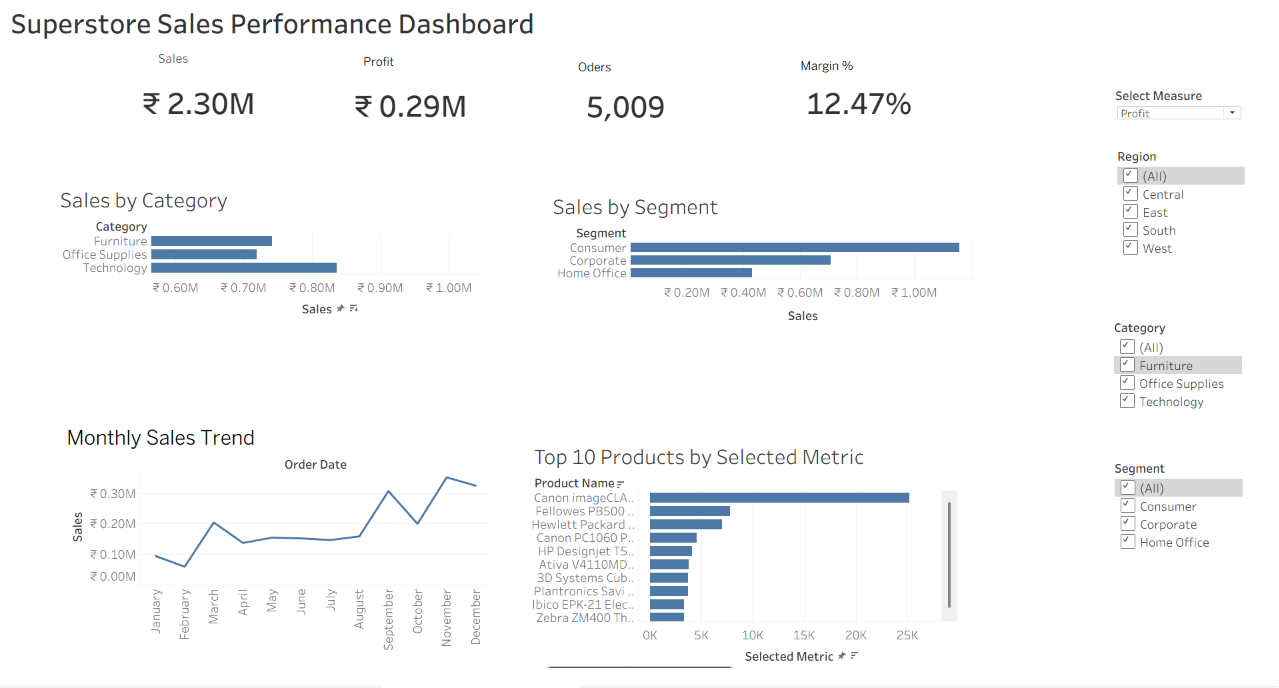

This screenshot's page, from the dashboard's own definition file:
{"tool":"tableau","page":{"name":"Superstore Sales Performance Dashboard","canvas":[1000,1000],"units":"permille","ordinal":2},"visuals":[{"type":"title","box":[5,9.9,990,78.2]},{"type":"worksheet","title":"KPI - Total Sales","mark":"Text","box":[69.2,73.2,132.2,120.4]},{"type":"worksheet","title":"KPI - Total Profit","mark":"Automatic","box":[224.4,80.7,142.8,116.6]},{"type":"worksheet","title":"KPI - Profit Margin %","mark":"Automatic","box":[577.9,85.6,135.9,100.5]},{"type":"worksheet","title":"KPI - Total Orders","mark":"Automatic","box":[407.1,88.1,114.7,104.2]},{"type":"parameter","param":"[Parameters].[Parameter 1]","box":[871.6,131.5,99.8,64.5]},{"type":"filter","title":"Sale vs Category","param":"[federated.0kgxwaf1hvqhs717r3kzm0ylo0of].[none:Region:nk]","box":[872.8,219.6,99.8,207.2]},{"type":"worksheet","title":"Sale vs Category","mark":"Automatic","rows":["Category"],"cols":["Sales"],"box":[44.9,270.5,332.9,332.5]},{"type":"worksheet","title":"Sales vs Segment","mark":"Automatic","rows":["Segment"],"cols":["Sales"],"box":[429.6,280.4,332.9,332.5]},{"type":"filter","title":"Sale vs Category","param":"[federated.0kgxwaf1hvqhs717r3kzm0ylo0of].[none:Category:nk]","box":[870.3,467.7,99.8,173.7]},{"type":"worksheet","title":"Monthly Sales Trend","mark":"Automatic","rows":["Sales"],"cols":["Order Date"],"box":[49.9,617.9,332.9,332.5]},{"type":"worksheet","title":"Top 10 Products Dynamic","mark":"Automatic","rows":["Product Name"],"cols":["Calculation_4012679242924036"],"box":[415.2,642.7,332.9,332.5]},{"type":"filter","title":"Sale vs Category","param":"[federated.0kgxwaf1hvqhs717r3kzm0ylo0of].[none:Segment:nk]","box":[871,671.2,99.8,173.7]}]}

Visuals, with their boxes on the dashboard's canvas, which has no fixed pixel size, in thousandths of its width and height (x1, y1, x2, y2). These are canvas units, not pixel positions in the 1279x688 screenshot, which may show the page scaled, cropped or inside an application window:
title: 5/10/995/88
"KPI - Total Sales" worksheet (Text marks): 69/73/201/194
"KPI - Total Profit" worksheet: 224/81/367/197
"KPI - Profit Margin %" worksheet: 578/86/714/186
"KPI - Total Orders" worksheet: 407/88/522/192
parameter: 872/132/971/196
"Sale vs Category" filter: 873/220/973/427
"Sale vs Category" worksheet: 45/270/378/603
"Sales vs Segment" worksheet: 430/280/762/613
"Sale vs Category" filter: 870/468/970/641
"Monthly Sales Trend" worksheet: 50/618/383/950
"Top 10 Products Dynamic" worksheet: 415/643/748/975
"Sale vs Category" filter: 871/671/971/845
